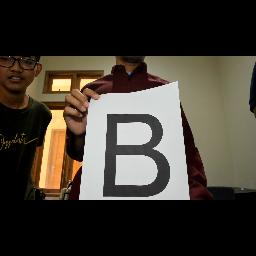b: (102, 111, 172, 199)
